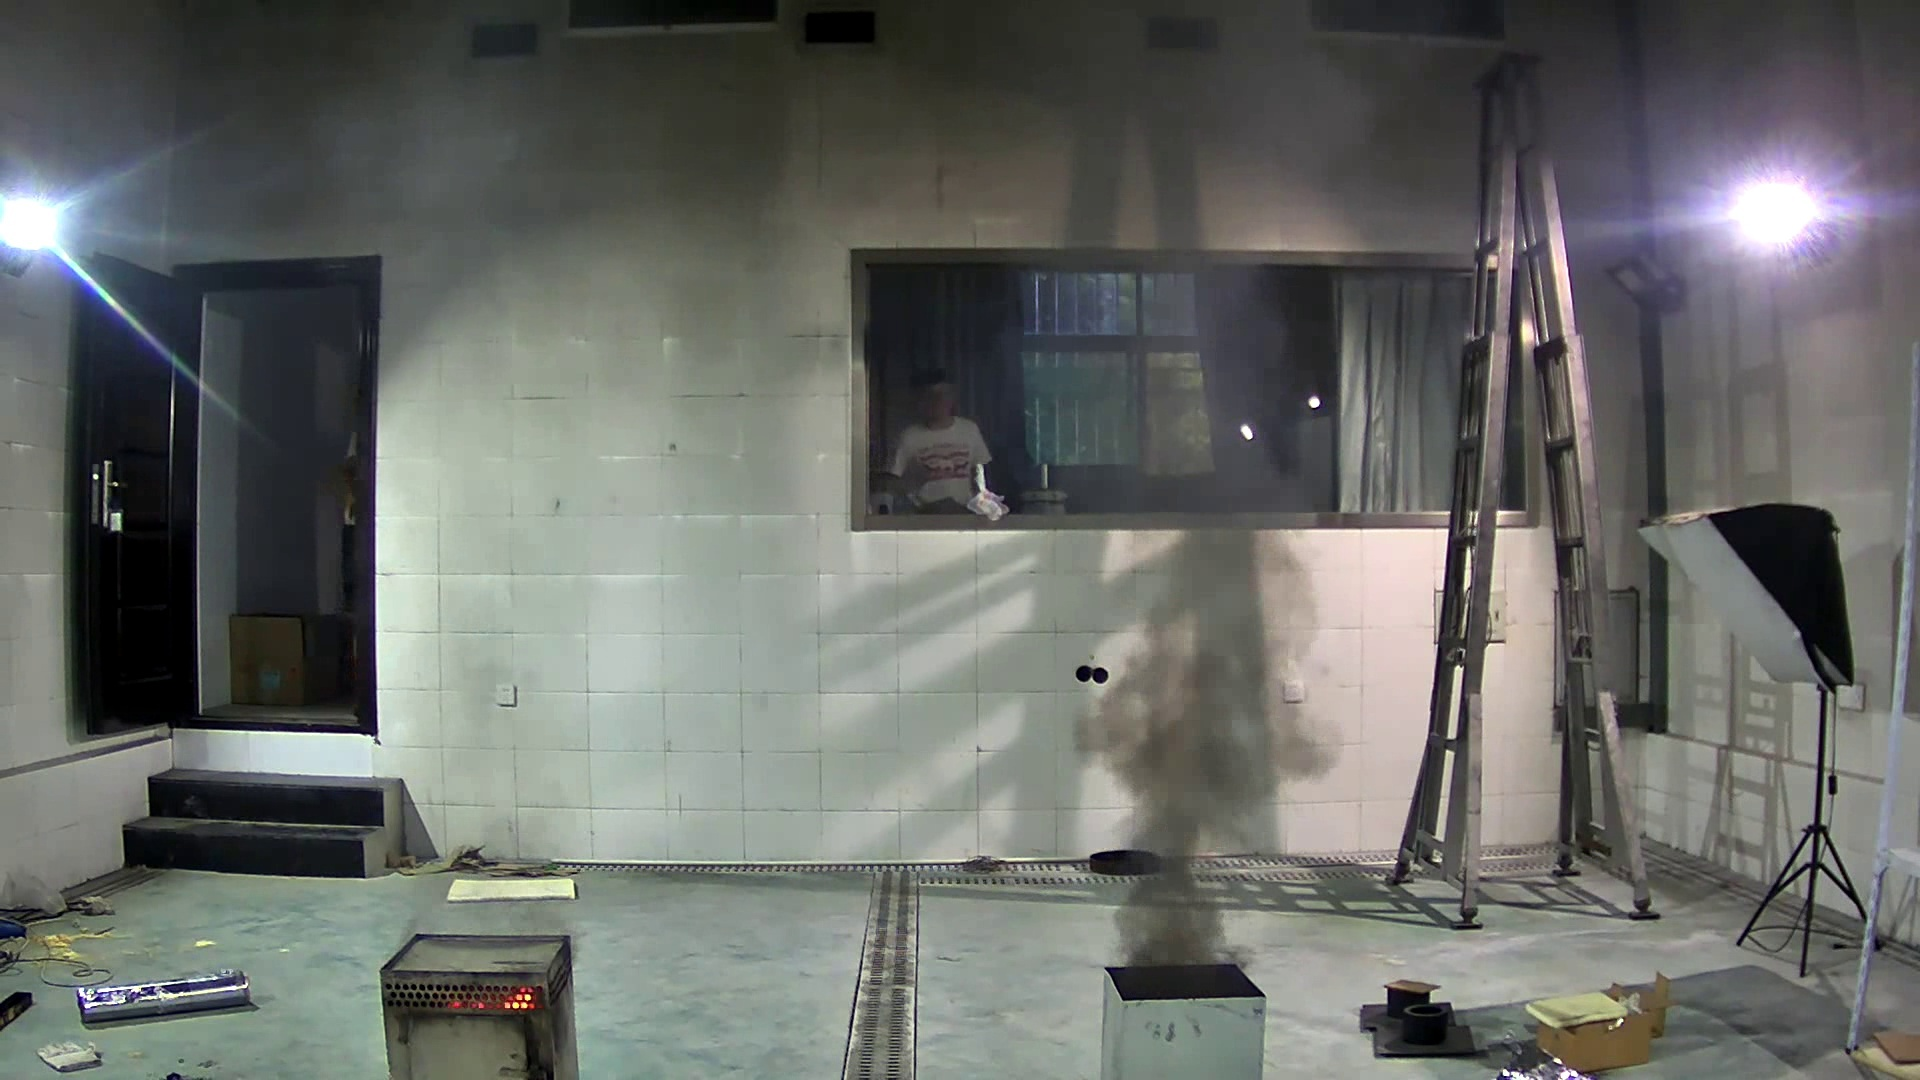smoke: (1088, 545, 1311, 961)
